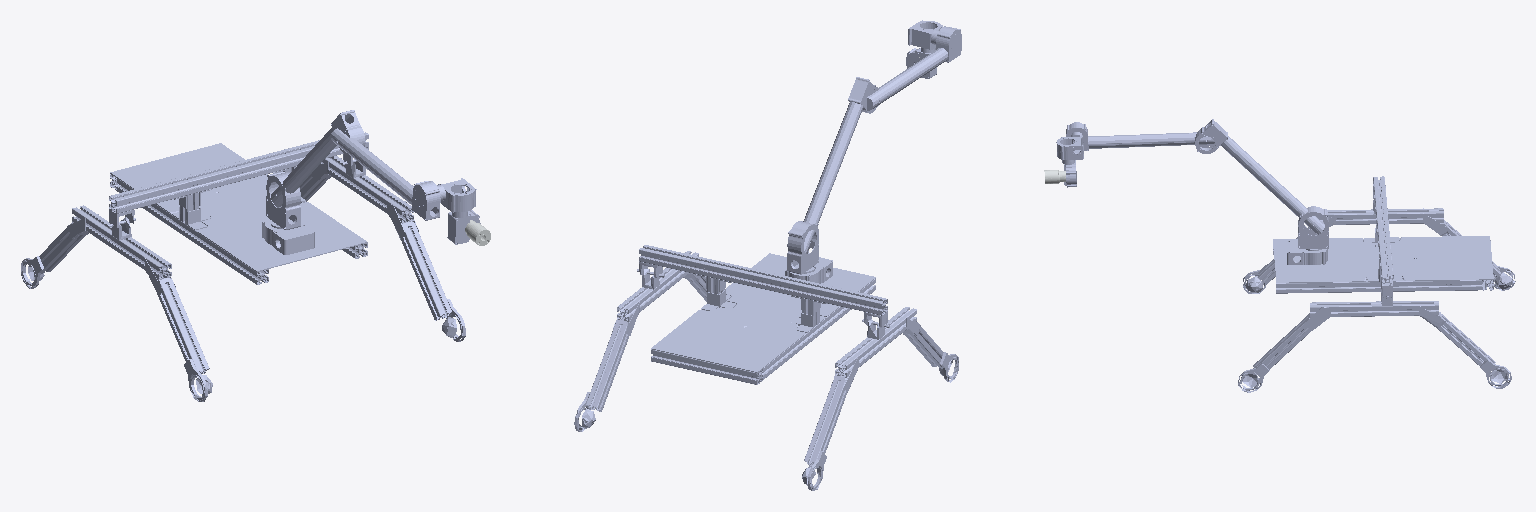
The robot description file, URDF, robot "arm_description":
<?xml version="1.0" encoding="utf-8"?>
<robot
  name="arm_description">
<link
    name="base_link">
    <inertial>
      <origin
        xyz="0.0044130475778954 -0.0310568977431112 0.118279871618265"
        rpy="0 0 0" />
      <mass
        value="5.00699131277012" />
      <inertia
        ixx="0.268939126634922"
        ixy="0.000157102820952367"
        ixz="-0.0117934298282522"
        iyy="0.61282212173551"
        iyz="0.0042109592921943"
        izz="0.435034401814071" />
    </inertial>
    <visual>
      <origin
        xyz="0 0 0"
        rpy="0 0 0" />
      <geometry>
        <mesh
          filename="package://mobile_base_description/meshes/base_link.STL" />
      </geometry>
      <material
        name="">
        <color
          rgba="0.792156862745098 0.819607843137255 0.933333333333333 1" />
      </material>
    </visual>
    <collision>
      <origin
        xyz="0 0 0"
        rpy="0 0 0" />
      <geometry>
        <mesh
          filename="package://mobile_base_description/meshes/base_link.STL" />
      </geometry>
    </collision>
  </link>
  <link
    name="right_front_wheel_link">
    <inertial>
      <origin
        xyz="-0.11217 8.8447E-05 5.7636E-05"
        rpy="0 0 0" />
      <mass
        value="1.5004" />
      <inertia
        ixx="9.5426E-06"
        ixy="3.0122E-07"
        ixz="1.5725E-07"
        iyy="0.00077209"
        iyz="3.7664E-07"
        izz="0.0007733" />
    </inertial>
    <visual>
      <origin
        xyz="0 0 0"
        rpy="0 0 0" />
      <geometry>
        <mesh
          filename="package://mobile_base_description/meshes/wheel_link.STL" />
      </geometry>
      <material
        name="">
        <color
          rgba="0.79216 0.81961 0.93333 1" />
      </material>
    </visual>
    <collision>
      <origin
        xyz="0 0 0"
        rpy="0 0 0" />
      <geometry>
        <mesh
          filename="package://mobile_base_description/meshes/wheel_link.STL" />
      </geometry>
    </collision>
  </link>
  <joint
    name="right_front_wheel_joint"
    type="continuous">
    <origin
      xyz="-0.39172 -0.62476 -0.30409"
      rpy="1.5708 2.2837E-18 0.037305" />
    <parent
      link="base_link" />
    <child
      link="right_front_wheel_link" />
    <axis
      xyz="1 0 0" />
  </joint>
  <link
    name="left_front_wheel_link">
    <inertial>
      <origin
        xyz="-0.11217 8.8185E-05 5.7784E-05"
        rpy="0 0 0" />
      <mass
        value="1.5004" />
      <inertia
        ixx="9.5533E-06"
        ixy="3.0632E-07"
        ixz="1.5757E-07"
        iyy="0.00077207"
        iyz="3.7952E-07"
        izz="0.00077329" />
    </inertial>
    <visual>
      <origin
        xyz="0 0 0"
        rpy="0 0 0" />
      <geometry>
        <mesh
          filename="package://mobile_base_description/meshes/wheel_link.STL" />
      </geometry>
      <material
        name="">
        <color
          rgba="0.79216 0.81961 0.93333 1" />
      </material>
    </visual>
    <collision>
      <origin
        xyz="0 0 0"
        rpy="0 0 0" />
      <geometry>
        <mesh
          filename="package://mobile_base_description/meshes/wheel_link.STL" />
      </geometry>
    </collision>
  </link>
  <joint
    name="left_front_wheel_joint"
    type="continuous">
    <origin
      xyz="0.43707 -0.64386 -0.30409"
      rpy="-1.5708 -2.2837E-18 -3.1043" />
    <parent
      link="base_link" />
    <child
      link="left_front_wheel_link" />
    <axis
      xyz="1 0 0" />
  </joint>
  <link
    name="right_back_wheel_link">
    <inertial>
      <origin
        xyz="-0.11217 8.8435E-05 5.7607E-05"
        rpy="0 0 0" />
      <mass
        value="1.5004" />
      <inertia
        ixx="9.5638E-06"
        ixy="3.0089E-07"
        ixz="1.5622E-07"
        iyy="0.00077205"
        iyz="3.8333E-07"
        izz="0.00077327" />
    </inertial>
    <visual>
      <origin
        xyz="0 0 0"
        rpy="0 0 0" />
      <geometry>
        <mesh
          filename="package://mobile_base_description/meshes/wheel_link.STL" />
      </geometry>
      <material
        name="">
        <color
          rgba="0.79216 0.81961 0.93333 1" />
      </material>
    </visual>
    <collision>
      <origin
        xyz="0 0 0"
        rpy="0 0 0" />
      <geometry>
        <mesh
          filename="package://mobile_base_description/meshes/wheel_link.STL" />
      </geometry>
    </collision>
  </link>
  <joint
    name="right_back_wheel_joint"
    type="continuous">
    <origin
      xyz="-0.42784 0.34311 -0.30409"
      rpy="1.5708 2.2837E-18 0.037305" />
    <parent
      link="base_link" />
    <child
      link="right_back_wheel_link" />
    <axis
      xyz="1 0 0" />
  </joint>
  <link
    name="left_back_wheel_link">
    <inertial>
      <origin
        xyz="-0.11217 8.8435E-05 5.7607E-05"
        rpy="0 0 0" />
      <mass
        value="1.5004" />
      <inertia
        ixx="9.5638E-06"
        ixy="3.0089E-07"
        ixz="1.5622E-07"
        iyy="0.00077205"
        iyz="3.8333E-07"
        izz="0.00077327" />
    </inertial>
    <visual>
      <origin
        xyz="0 0 0"
        rpy="0 0 0" />
      <geometry>
        <mesh
          filename="package://mobile_base_description/meshes/wheel_link.STL" />
      </geometry>
      <material
        name="">
        <color
          rgba="0.79216 0.81961 0.93333 1" />
      </material>
    </visual>
    <collision>
      <origin
        xyz="0 0 0"
        rpy="0 0 0" />
      <geometry>
        <mesh
          filename="package://mobile_base_description/meshes/wheel_link.STL" />
      </geometry>
    </collision>
  </link>
  <joint
    name="left_back_wheel_joint"
    type="continuous">
    <origin
      xyz="0.40294 0.32408 -0.30409"
      rpy="1.5708 5.545E-15 -3.1043" />
    <parent
      link="base_link" />
    <child
      link="left_back_wheel_link" />
    <axis
      xyz="1 0 0" />
  </joint>

  <link
    name="arm_base_link">
    <inertial>
      <origin
        xyz="0.055 0.028511 -0.07071"
        rpy="0 0 0" />
      <mass
        value="0.22424" />
      <inertia
        ixx="1"
        ixy="1"
        ixz="0"
        iyy="1"
        iyz="0"
        izz="1" />
    </inertial>
    <visual>
      <origin
        xyz="0 0 0"
        rpy="0 0 0" />
      <geometry>
        <mesh
          filename="package://arm_description/meshes/base_link.STL" />
      </geometry>
      <material
        name="">
        <color
          rgba="0.79216 0.81961 0.93333 1" />
      </material>
    </visual>
    <collision>
      <origin
        xyz="0 0 0"
        rpy="0 0 0" />
      <geometry>
        <mesh
          filename="package://arm_description/meshes/base_link.STL" />
      </geometry>
    </collision>
  </link>
  
  <joint
    name="joint_dummy"
    type="fixed">
    <origin
      xyz="-0.05 -0.5 0.0"
      rpy="0 0 0" />
    <parent
      link="base_link" />
    <child
      link="arm_base_link" />
  </joint>
  
  <link
    name="link1">
    <inertial>
      <origin
        xyz="0 -0.0739919805157646 0.00271975586057593"
        rpy="0 0 0" />
      <mass
        value="0.182986637355482" />
      <inertia
        ixx="1"
        ixy="0"
        ixz="0"
        iyy="1"
        iyz="0"
        izz="1" />
    </inertial>
    <visual>
      <origin
        xyz="0 0 0"
        rpy="0 0 0" />
      <geometry>
        <mesh
          filename="package://arm_description/meshes/link1.STL" />
      </geometry>
      <material
        name="">
        <color
          rgba="0.792156862745098 0.819607843137255 0.933333333333333 1" />
      </material>
    </visual>
    <collision>
      <origin
        xyz="0 0 0"
        rpy="0 0 0" />
      <geometry>
        <mesh
          filename="package://arm_description/meshes/link1.STL" />
      </geometry>
    </collision>
  </link>
  <joint
    name="joint1"
    type="revolute">
    <origin
      xyz="0.055 0.105 0.058"
      rpy="-1.5708 -6.123E-17 -1.5708" />
    <parent
      link="arm_base_link" />
    <child
      link="link1" />
     <axis
      xyz="0 1 0" />
    <limit
      lower="-3.14"
      upper="3.14"
      effort="100"
      velocity="20" />
      <dynamics
        damping = "5"
        friction = "5"/>
  </joint>
  <link
    name="link2">
    <inertial>
      <origin
        xyz="9.33241508168856E-05 0.00299946771656848 0.259411152659096"
        rpy="0 0 0" />
      <mass
        value="0.15891412192705" />
      <inertia
        ixx="1"
        ixy="0"
        ixz="0"
        iyy="1"
        iyz="0"
        izz="1" />
    </inertial>
    <visual>
      <origin
        xyz="0 0 0"
        rpy="0 0 0" />
      <geometry>
        <mesh
          filename="package://arm_description/meshes/link2.STL" />
      </geometry>
      <material
        name="">
        <color
          rgba="0.792156862745098 0.819607843137255 0.933333333333333 1" />
      </material>
    </visual>
    <collision>
      <origin
        xyz="0 0 0"
        rpy="0 0 0" />
      <geometry>
        <mesh
          filename="package://arm_description/meshes/link2.STL" />
      </geometry>
    </collision>
  </link>
  <joint
    name="joint2"
    type="revolute">
    <origin
      xyz="0 -0.0975 0.0005"
      rpy="0.79351 1.5708 0" />
    <parent
      link="link1" />
    <child
      link="link2" />
     <axis
      xyz="1 0 0" />
    <limit
      lower="-3.14"
      upper="3.14"
      effort="100"
      velocity="20" />
  </joint>
  <link
    name="link3">
    <inertial>
      <origin
        xyz="-0.000140175541839031 0.00170047101330162 0.234927029132246"
        rpy="0 0 0" />
      <mass
        value="0.12508309667554" />
      <inertia
        ixx="1"
        ixy="0"
        ixz="0"
        iyy="1"
        iyz="0"
        izz="1" />
    </inertial>
    <visual>
      <origin
        xyz="0 0 0"
        rpy="0 0 0" />
      <geometry>
        <mesh
          filename="package://arm_description/meshes/link3.STL" />
      </geometry>
      <material
        name="">
        <color
          rgba="0.792156862745098 0.819607843137255 0.933333333333333 1" />
      </material>
    </visual>
    <collision>
      <origin
        xyz="0 0 0"
        rpy="0 0 0" />
      <geometry>
        <mesh
          filename="package://arm_description/meshes/link3.STL" />
      </geometry>
    </collision>
  </link>
  <joint
    name="joint3"
    type="revolute">
    <origin
      xyz="0.0245 0.0495 0.5419"
      rpy="0.83549 0 3.1416" />
    <parent
      link="link2" />
    <child
      link="link3" />
     <axis
      xyz="1 0 0" />
    <limit
      lower="-3.14"
      upper="3.14"
      effort="100"
      velocity="20" />
  </joint>
  <link
    name="link4">
    <inertial>
      <origin
        xyz="-0.00777696008671636 0.0133698565418885 0.0217435569521924"
        rpy="0 0 0" />
      <mass
        value="0.156151945009422" />
      <inertia
        ixx="1"
        ixy="0"
        ixz="0"
        iyy="1"
        iyz="0"
        izz="1" />
	</inertial>
    <visual>
      <origin
        xyz="0 0 0"
        rpy="0 0 0" />
      <geometry>
        <mesh
          filename="package://arm_description/meshes/link4.STL" />
      </geometry>
      <material
        name="">
        <color
          rgba="0.792156862745098 0.819607843137255 0.933333333333333 1" />
      </material>
    </visual>
    <collision>
      <origin
        xyz="0 0 0"
        rpy="0 0 0" />
      <geometry>
        <mesh
          filename="package://arm_description/meshes/link4.STL" />
      </geometry>
    </collision>
  </link>
  <joint
    name="joint4"
    type="revolute">
    <origin
      xyz="0.0545 0.0355 0.503"
      rpy="1.5708 -6.9389E-18 1.5708" />
    <parent
      link="link3" />
    <child
      link="link4" />
     <axis
      xyz="0 0 1" />
    <limit
      lower="-3.14"
      upper="3.14"
      effort="100"
      velocity="20" />
  </joint>
  <link
    name="link5">
    <inertial>
      <origin
        xyz="0.00423182736021133 0.00932384755029578 0.0219997086154421"
        rpy="0 0 0" />
      <mass
        value="0.153675066385186" />
      <inertia
        ixx="1"
        ixy="0"
        ixz="0"
        iyy="1"
        iyz="0"
        izz="1" />
    </inertial>
    <visual>
      <origin
        xyz="0 0 0"
        rpy="0 0 0" />
      <geometry>
        <mesh
          filename="package://arm_description/meshes/link5.STL" />
      </geometry>
      <material
        name="">
        <color
          rgba="0.792156862745098 0.819607843137255 0.933333333333333 1" />
      </material>
    </visual>
    <collision>
      <origin
        xyz="0 0 0"
        rpy="0 0 0" />
      <geometry>
        <mesh
          filename="package://arm_description/meshes/link5.STL" />
      </geometry>
    </collision>
  </link>
  <joint
    name="joint5"
    type="revolute">
    <origin
      xyz="-0.07 0.035 0.044"
      rpy="1.5708 0 -1.5708" />
    <parent
      link="link4" />
    <child
      link="link5" />
     <axis
      xyz="0 0 1" />
    <limit
      lower="-3.14"
      upper="3.14"
      effort="100"
      velocity="20" />
  </joint>
  <link
    name="link6">
    <inertial>
      <origin
        xyz="2.77555756156289E-17 1.11022302462516E-16 0.0181583763254755"
        rpy="0 0 0" />
      <mass
        value="0.299295530441066" />
      <inertia
        ixx="1"
        ixy="0"
        ixz="0"
        iyy="1"
        iyz="0"
        izz="1" />
    </inertial>
    <visual>
      <origin
        xyz="0 0 0"
        rpy="0 0 0" />
      <geometry>
        <mesh
          filename="package://arm_description/meshes/link6.STL" />
      </geometry>
      <material
        name="">
        <color
          rgba="0.898039215686275 0.917647058823529 0.929411764705882 1" />
      </material>
    </visual>
    <collision>
      <origin
        xyz="0 0 0"
        rpy="0 0 0" />
      <geometry>
        <mesh
          filename="package://arm_description/meshes/link6.STL" />
      </geometry>
    </collision>
  </link>
  <joint
    name="joint6"
    type="revolute">
    <origin
      xyz="-0.041 0.031 0.045"
      rpy="-1.5708 0 1.5708" />
    <parent
      link="link5" />
    <child
      link="link6" />
     <axis
      xyz="0 0 1" />
    <limit
      lower="-3.14"
      upper="3.14"
      effort="100"
      velocity="20" />
  </joint>
<transmission name="tran1">
    <type>transmission_interface/SimpleTransmission</type>
    <joint name="joint1">
      <hardwareInterface>hardware_interface/EffortJointInterface</hardwareInterface>
    </joint>
    <actuator name="motor1">
      <hardwareInterface>hardware_interface/EffortJointInterface</hardwareInterface>
      <mechanicalReduction>1</mechanicalReduction>
    </actuator>
  </transmission>   
<transmission name="tran2">
    <type>transmission_interface/SimpleTransmission</type>
    <joint name="joint2">
      <hardwareInterface>hardware_interface/EffortJointInterface</hardwareInterface>
    </joint>
    <actuator name="motor2">
      <hardwareInterface>hardware_interface/EffortJointInterface</hardwareInterface>
      <mechanicalReduction>1</mechanicalReduction>
    </actuator>
  </transmission> 
<transmission name="tran3">
    <type>transmission_interface/SimpleTransmission</type>
    <joint name="joint3">
      <hardwareInterface>hardware_interface/EffortJointInterface</hardwareInterface>
    </joint>
    <actuator name="motor3">
      <hardwareInterface>hardware_interface/EffortJointInterface</hardwareInterface>
      <mechanicalReduction>1</mechanicalReduction>
    </actuator>
  </transmission>
<transmission name="tran4">
    <type>transmission_interface/SimpleTransmission</type>
    <joint name="joint4">
      <hardwareInterface>hardware_interface/EffortJointInterface</hardwareInterface>
    </joint>
    <actuator name="motor4">
      <hardwareInterface>hardware_interface/EffortJointInterface</hardwareInterface>
      <mechanicalReduction>1</mechanicalReduction>
    </actuator>
  </transmission>
<transmission name="tran5">
    <type>transmission_interface/SimpleTransmission</type>
    <joint name="joint5">
      <hardwareInterface>hardware_interface/EffortJointInterface</hardwareInterface>
    </joint>
    <actuator name="motor5">
      <hardwareInterface>hardware_interface/EffortJointInterface</hardwareInterface>
      <mechanicalReduction>1</mechanicalReduction>
    </actuator>
  </transmission>
<transmission name="tran6">
    <type>transmission_interface/SimpleTransmission</type>
    <joint name="joint6">
      <hardwareInterface>hardware_interface/EffortJointInterface</hardwareInterface>
    </joint>
    <actuator name="motor6">
      <hardwareInterface>hardware_interface/EffortJointInterface</hardwareInterface>
      <mechanicalReduction>1</mechanicalReduction>
    </actuator>
  </transmission>
  <gazebo>
    <plugin name="gazebo_ros_control" filename="libgazebo_ros_control.so">
    </plugin>
  </gazebo>
</robot>

--- Facts derived from the render (not from the file) ---
Views: 3 orthographic renders of the robot side by side, from view 1: azimuth 30°, elevation 25°; view 2: azimuth 150°, elevation 25°; view 3: azimuth 270°, elevation 25°.
Robot: arm_description — 12 links, 11 joints (6 revolute, 4 continuous, 1 fixed); root link base_link; default pose: every joint at zero.
Links seen in each view (by area): view 1: base_link, link3, link2, link1, arm_base_link, link4, link5; view 2: base_link, link2, link3, link1, link4, arm_base_link; view 3: base_link, link2, link3, link1, arm_base_link, link4.
Link boxes in pixels (x1,y1,x2,y2): base_link: (21,131,465,401); link3: (331,128,440,220); link2: (271,110,365,206); link1: (266,171,300,229); arm_base_link: (262,219,314,254); link4: (437,178,476,212); link5: (447,210,480,244); base_link: (574,245,958,490); link2: (803,77,878,253); link3: (867,26,961,110); link1: (787,221,818,274); link4: (908,20,942,50); arm_base_link: (785,257,832,283); base_link: (1238,176,1515,392); link2: (1195,119,1324,234); link3: (1066,122,1214,150); link1: (1298,206,1328,248); arm_base_link: (1287,241,1327,264); link4: (1056,132,1083,159).
Size in the robot's own frame: 0.9508 by 1.83 by 0.9427 metres.
Meshes: 9 distinct files referenced, 8 mesh visuals loaded (8 binary STL); not drawn: 4 (reference not matched to a file when rendering).